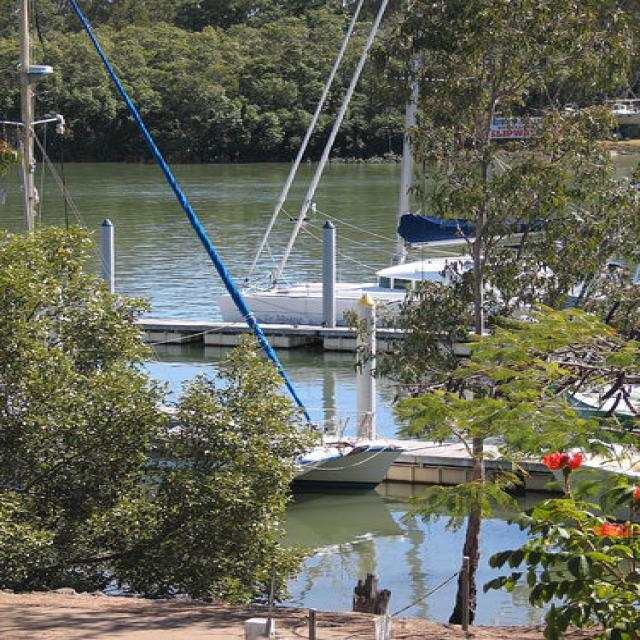boat: (1, 1, 405, 495), (221, 1, 639, 336)
